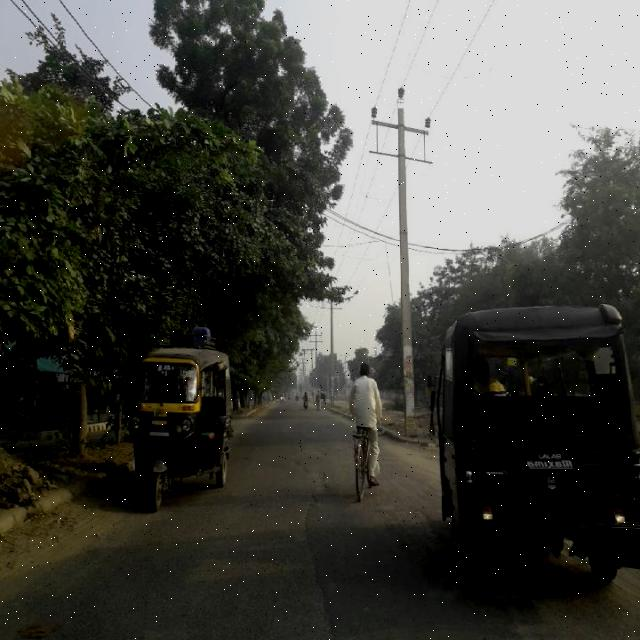D40: (297, 459, 331, 506)
